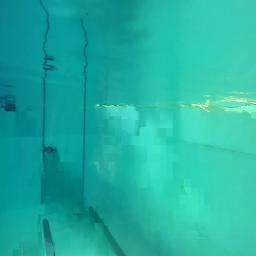Full: (42, 143, 58, 155)
Side: (0, 101, 17, 112)
